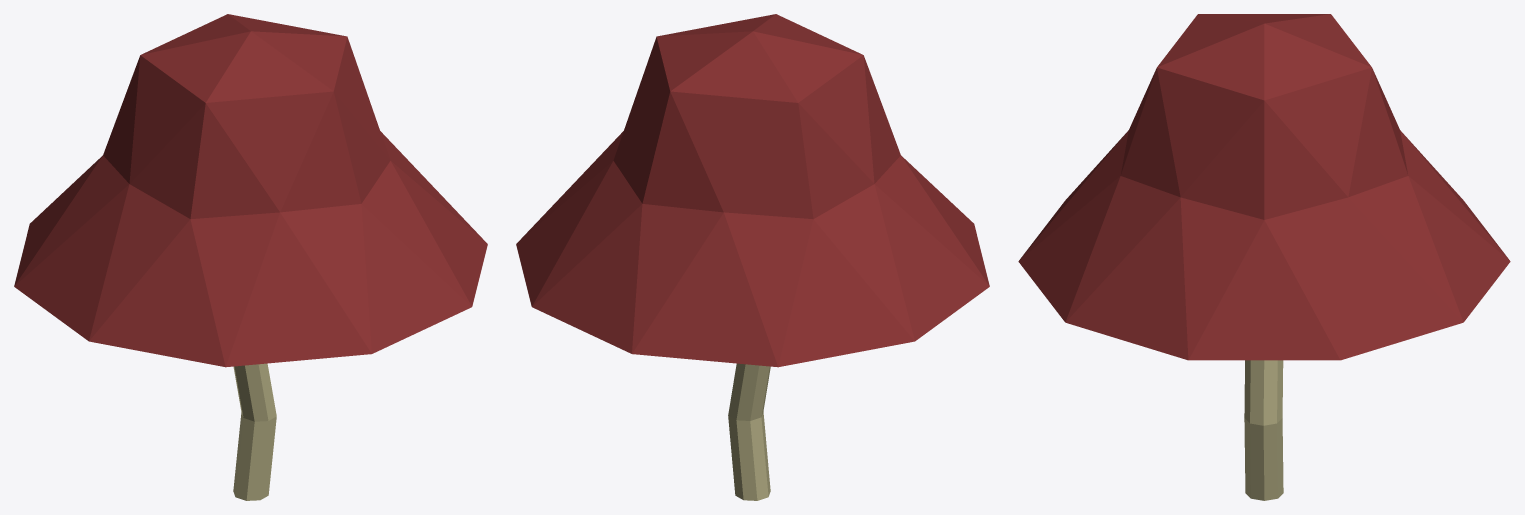
Rendered from hat_mushroom_red.fbx.
The picture shows the model from 3 angles, left to right: view 1: azimuth 30°, elevation 25°; view 2: azimuth 150°, elevation 25°; view 3: azimuth 270°, elevation 25°; orthographic projection.
Parts seen in each view (by area): view 1: hat_mushroom_red; view 2: hat_mushroom_red; view 3: hat_mushroom_red.
Part boxes in pixels (left/top/right/bottom): hat_mushroom_red: left=14, top=14, right=487, bottom=500; hat_mushroom_red: left=516, top=14, right=989, bottom=500; hat_mushroom_red: left=1018, top=14, right=1510, bottom=500.
Bounding box in the file's own units: 74.49 × 82.43 × 78.32.
